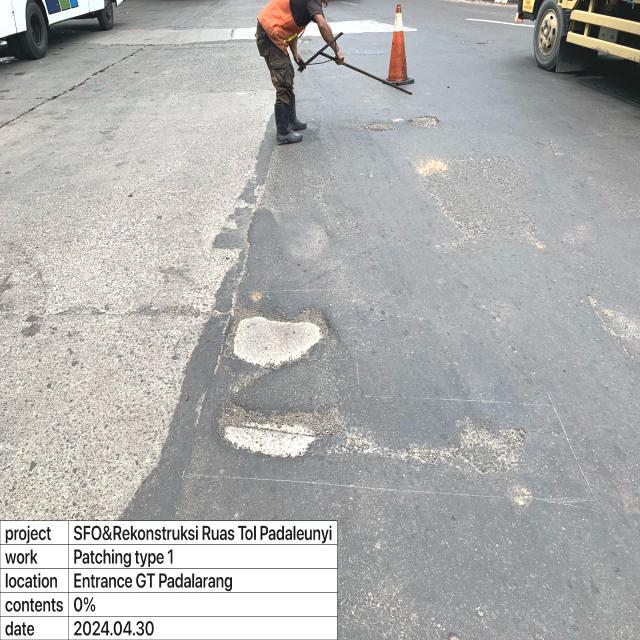Buraco: (218, 304, 338, 395), (212, 398, 346, 463), (404, 115, 442, 130), (358, 121, 398, 132)
